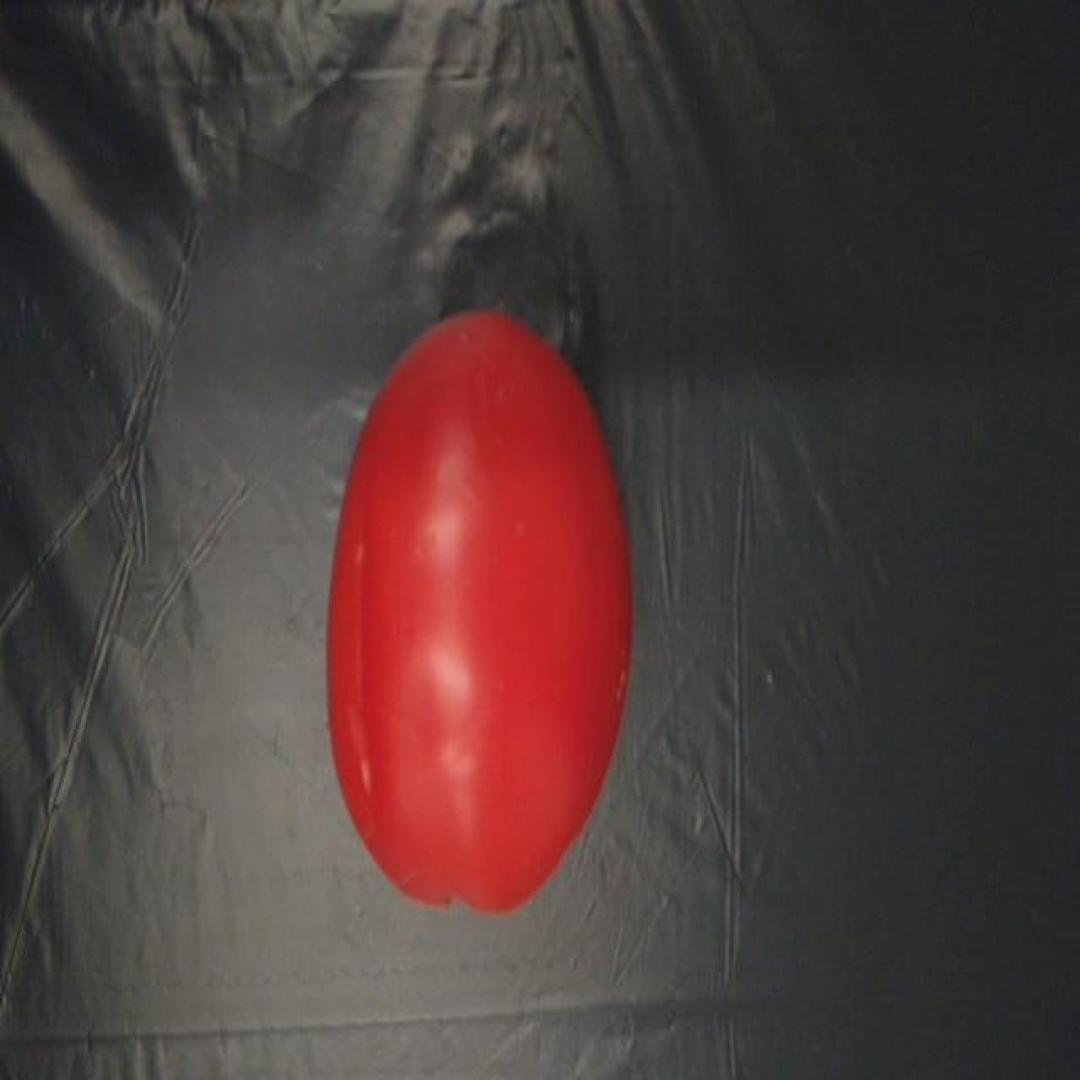matang: (322, 309, 631, 913)
